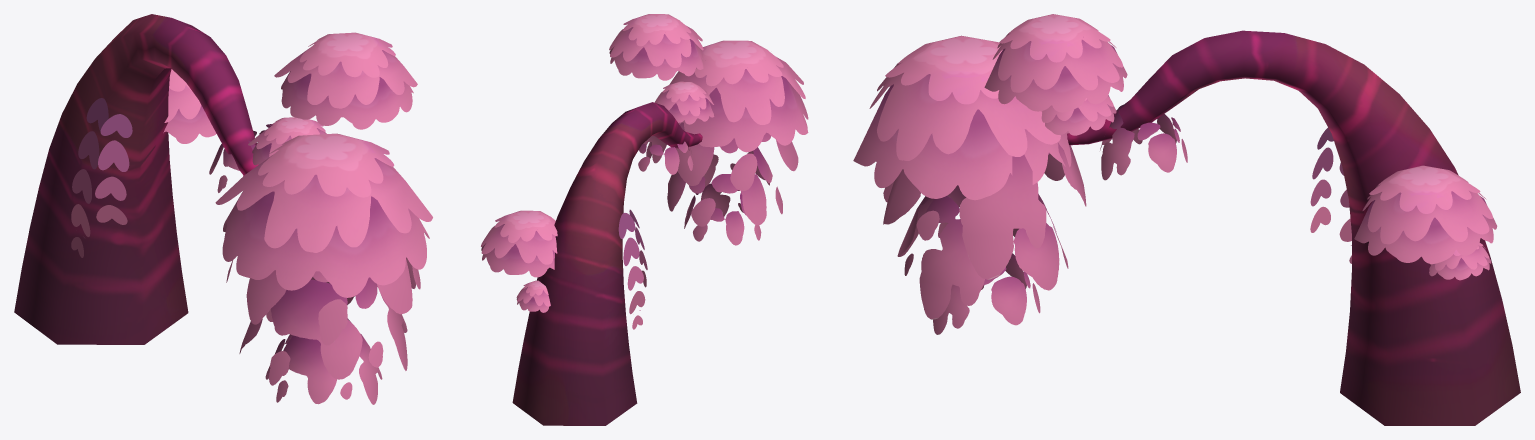
File: SM_Tree_MediumU.fbx
The picture shows the model from 3 angles, left to right: view 1: azimuth 30°, elevation 25°; view 2: azimuth 150°, elevation 25°; view 3: azimuth 270°, elevation 25°; orthographic projection. The views are drawn at different scales.
Visible parts, largest first — view 1: SM_Tree_Medium2_Trunk, SM_Tree_Medium2_Leaves, SM_Tree_Medium2_DroopingLeaves; view 2: SM_Tree_Medium2_Trunk, SM_Tree_Medium2_Leaves, SM_Tree_Medium2_DroopingLeaves; view 3: SM_Tree_Medium2_Trunk, SM_Tree_Medium2_Leaves, SM_Tree_Medium2_DroopingLeaves.
Boxes of the visible parts, x1,y1,x2,y2 form: SM_Tree_Medium2_Trunk: (14, 14, 258, 344); SM_Tree_Medium2_Leaves: (163, 32, 432, 297); SM_Tree_Medium2_DroopingLeaves: (71, 98, 420, 404); SM_Tree_Medium2_Trunk: (512, 102, 702, 425); SM_Tree_Medium2_Leaves: (481, 14, 808, 312); SM_Tree_Medium2_DroopingLeaves: (618, 122, 798, 329); SM_Tree_Medium2_Trunk: (1067, 30, 1520, 425); SM_Tree_Medium2_Leaves: (853, 14, 1497, 280); SM_Tree_Medium2_DroopingLeaves: (883, 103, 1351, 334).
Bounding box in the file's own units: 5.49 × 8.61 × 13.18.
